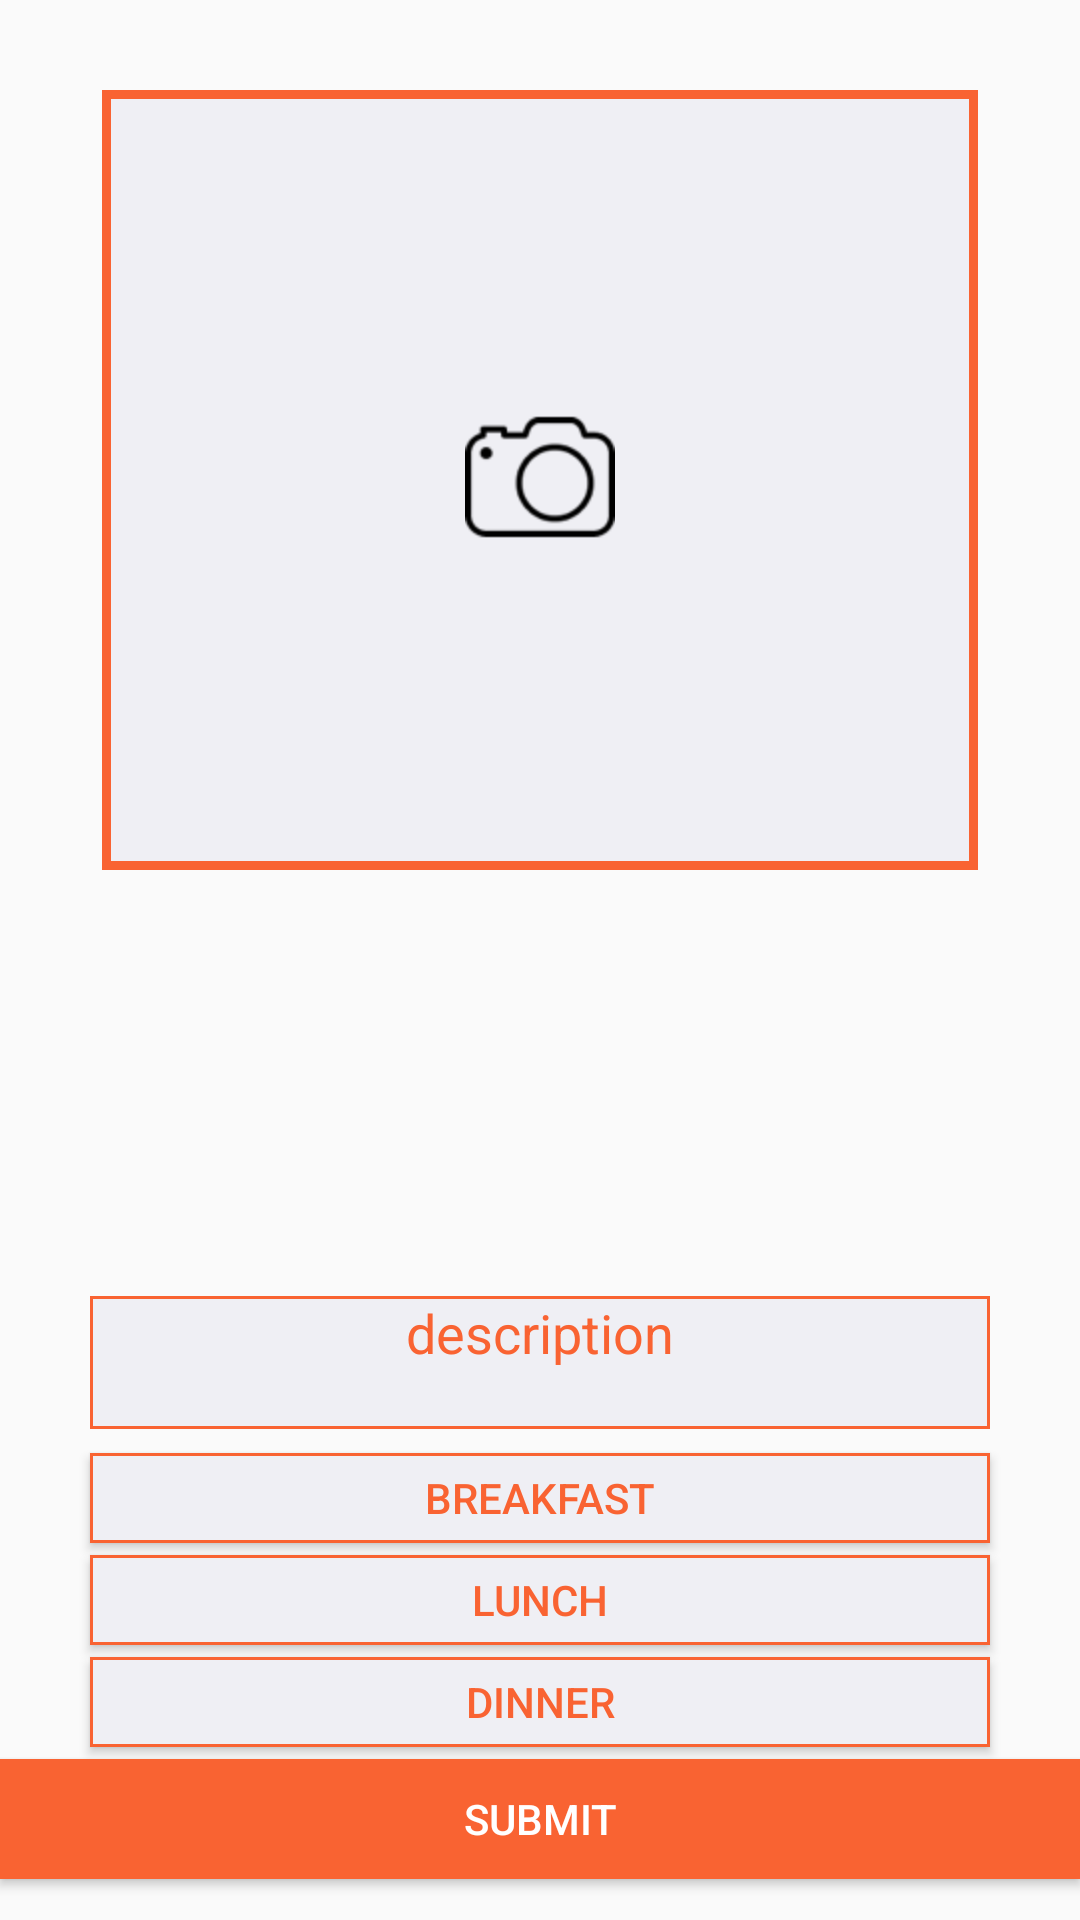

Icon click points for this 1080*1920 phone screenshot, format point (x, y):
camera: point (540, 477)
